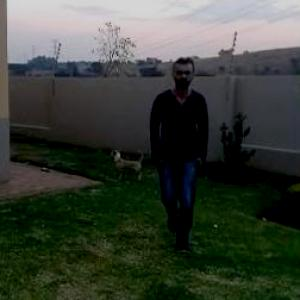follow: (146, 55, 206, 237)
